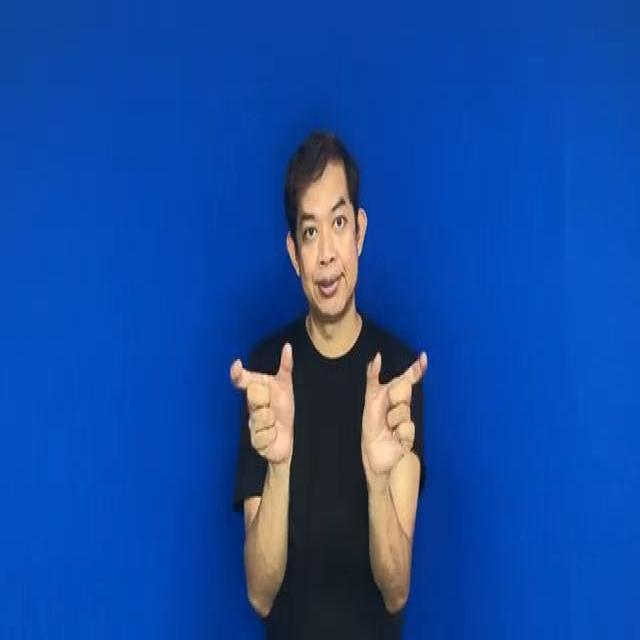crab: (227, 326, 428, 474)
